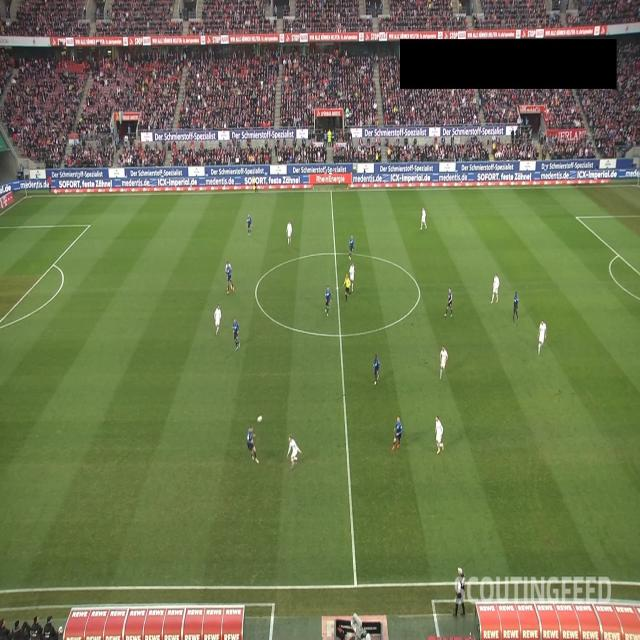ball: (256, 414, 263, 424)
